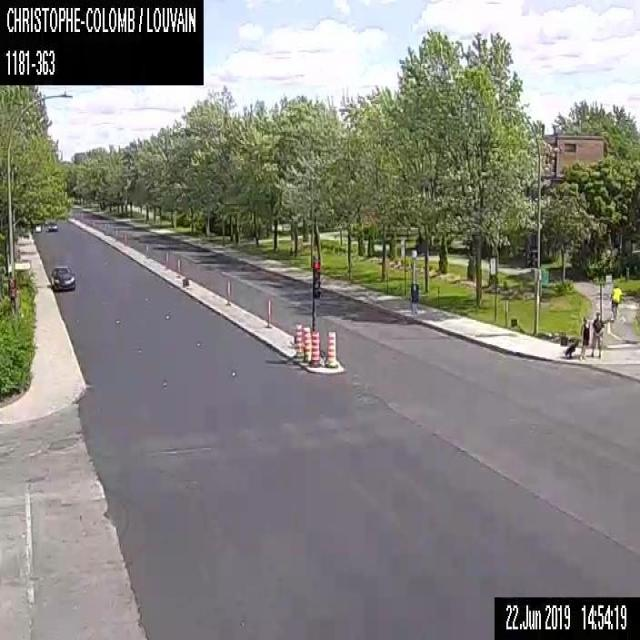construction: (324, 328, 336, 365), (292, 322, 303, 359), (310, 331, 320, 366), (302, 325, 311, 362), (265, 296, 270, 327), (227, 275, 231, 305), (165, 249, 169, 271), (175, 257, 179, 276), (146, 246, 149, 262)
cyclist: (610, 284, 622, 319)
pedestrian: (564, 315, 590, 358), (590, 312, 604, 358)
vehicle: (49, 264, 75, 291), (46, 216, 58, 232)
